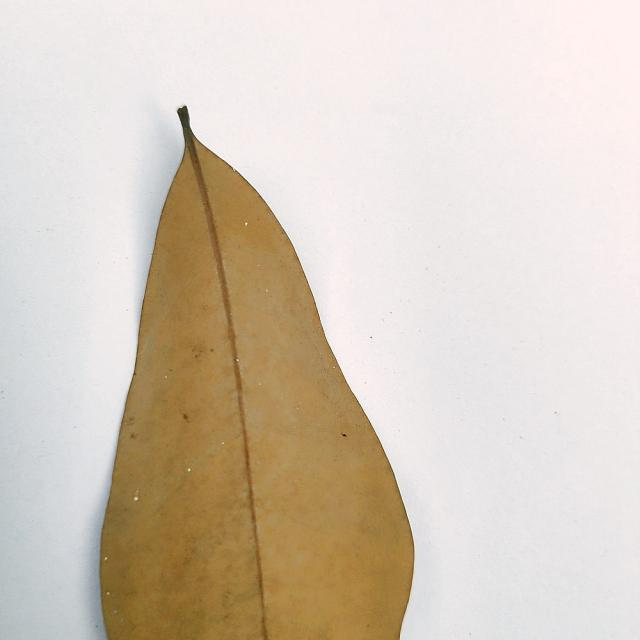Dry_Leaf-Lychee: (99, 110, 415, 639)
